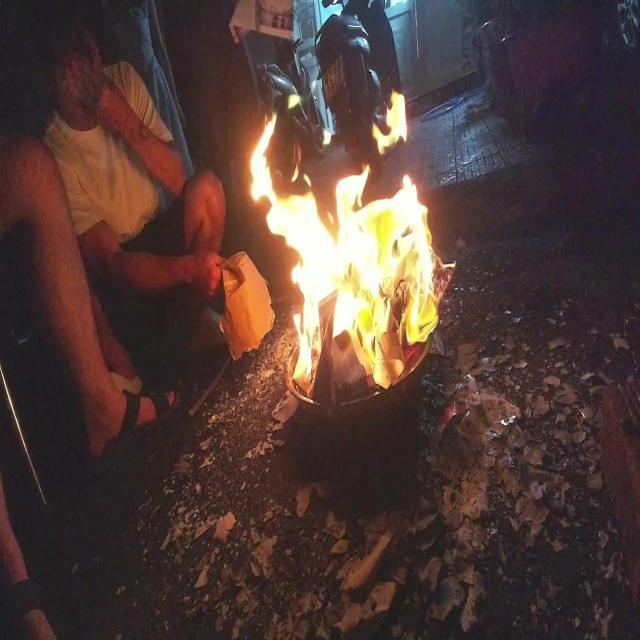Fire: (250, 61, 438, 373)
